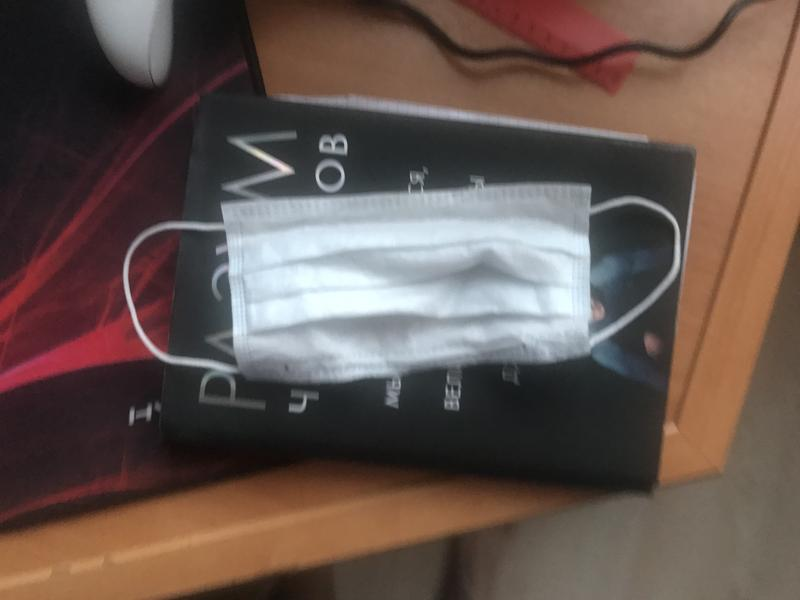medical_mask: (123, 183, 682, 381)
